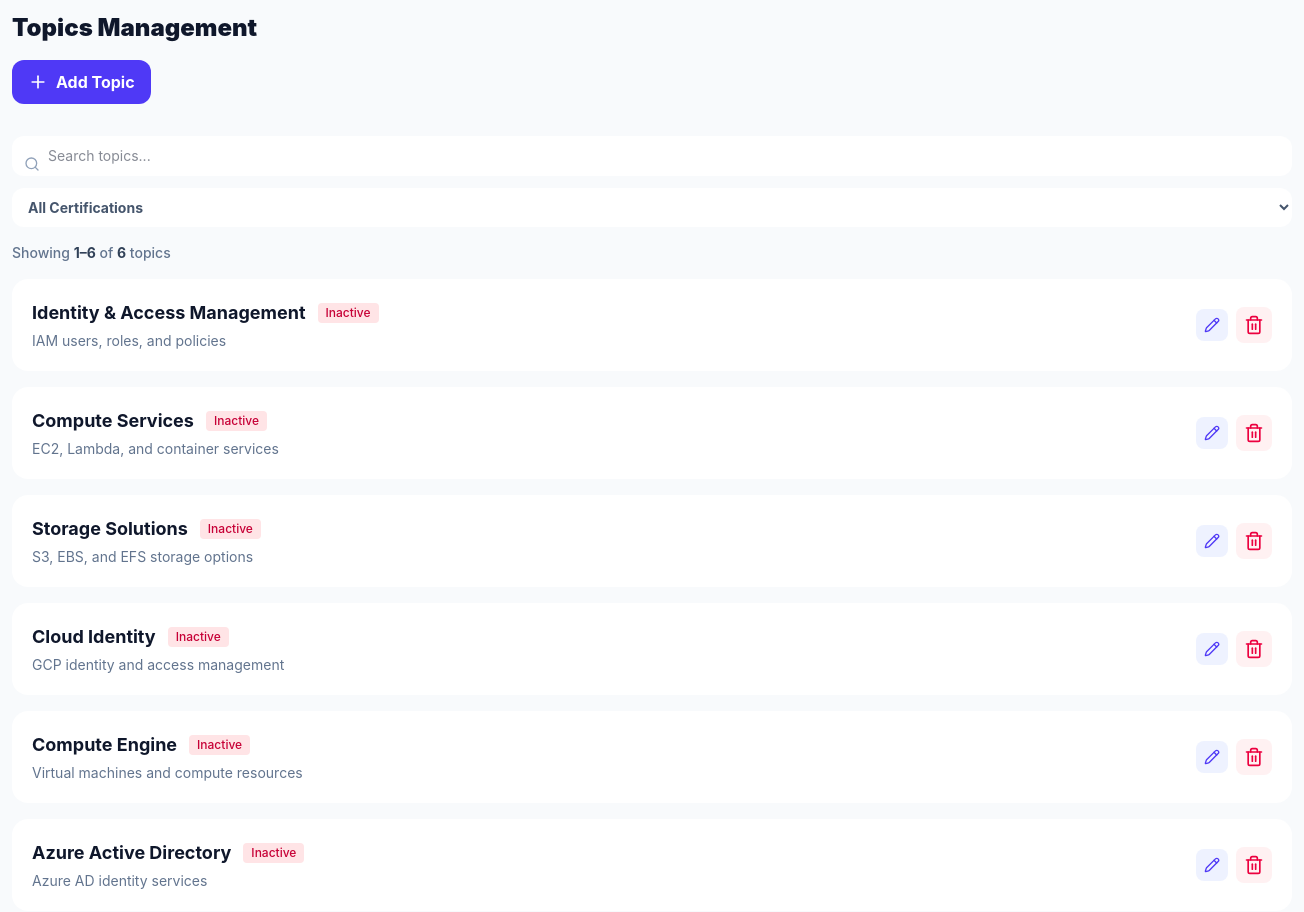
Context building with search terms › passes empty context when search term matches no topics
Expected: the heading "Identity & Access Management" is shown, [32,299,306,327]
Type "nonexistentterm12345" into the field with placeholder "Search topics...".
click(652, 156); type("nonexistentterm12345")  # box [12,136,1292,176]
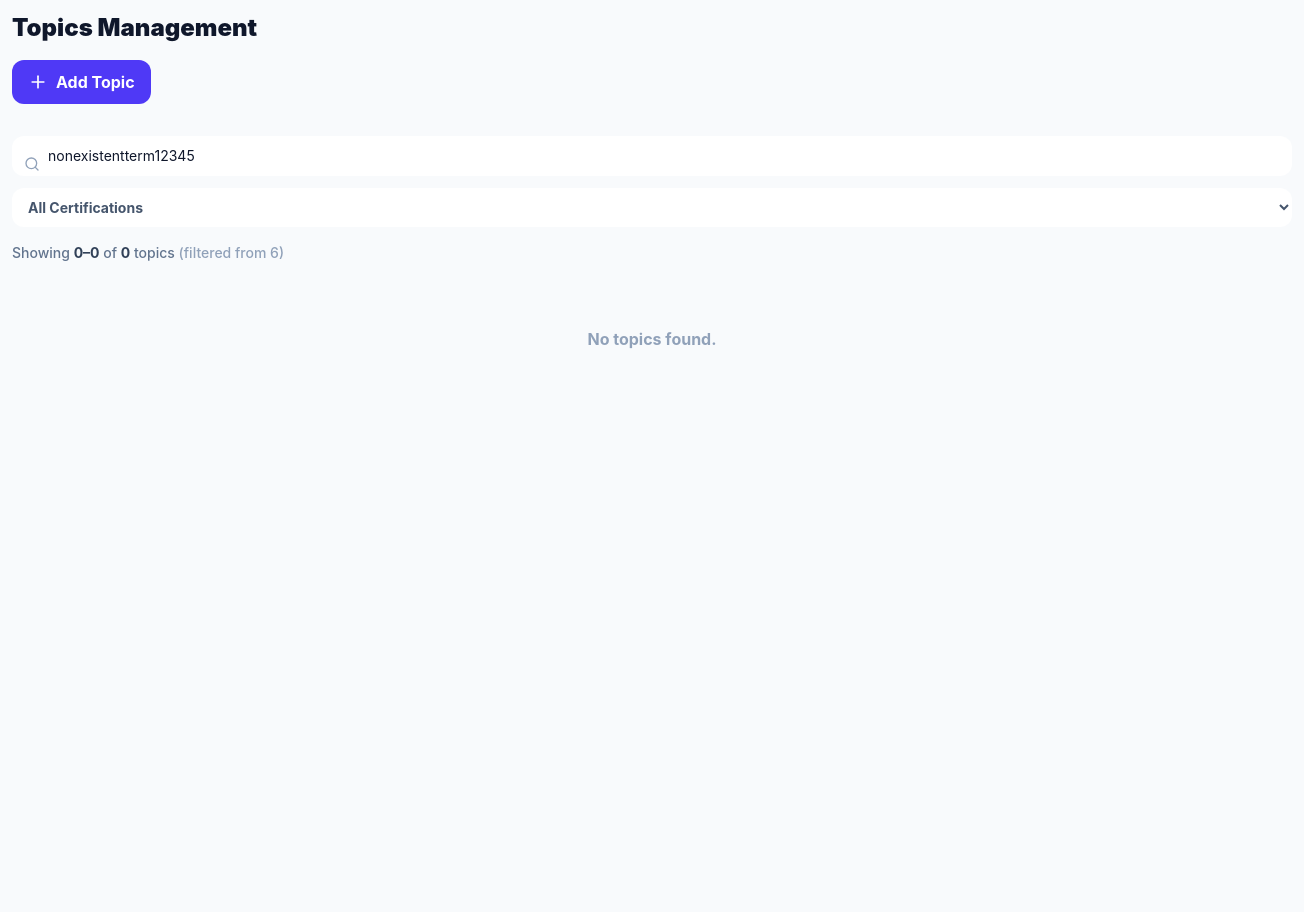
Expected: the text "No topics found." is shown, [588,329,717,349]
